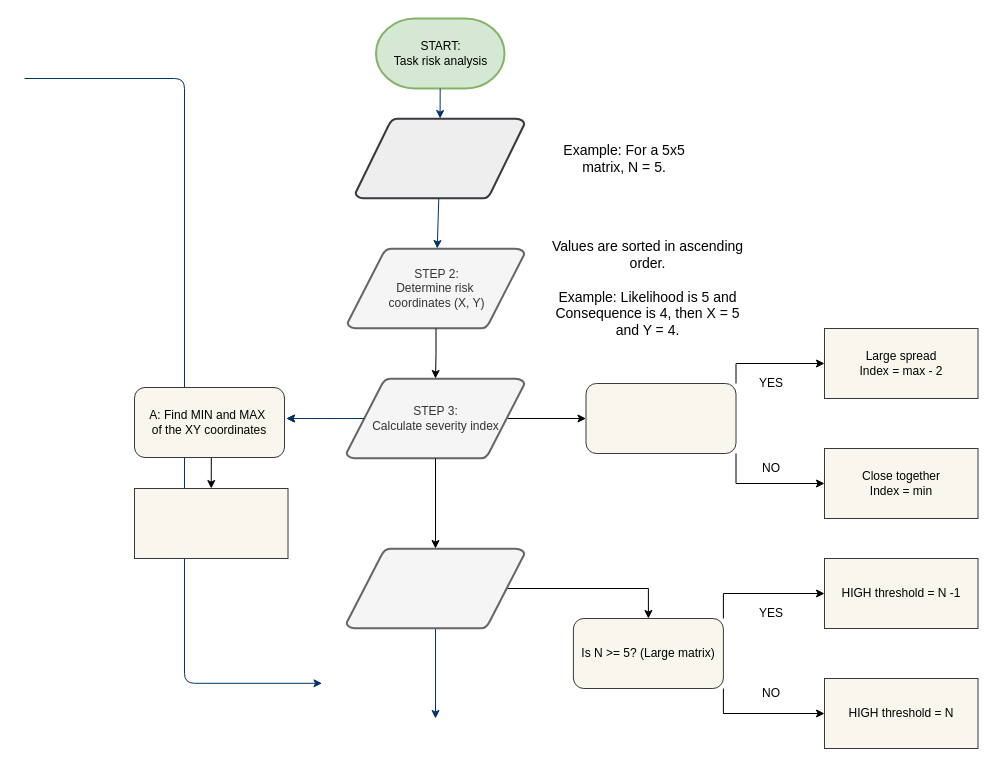
The diagram is 996 pixels wide and 766 high, and some of its shapes have lost their labels. Here are the shapes that lost their labels. From the top down, the centre of each, then its label:
At point (439, 158): "STEP 1: Get matrix dimensions (NxN)".
At point (660, 418): "B: Check the spread. Is (max - min) > 1".
At point (211, 523): "min = Math.min(X, Y) max = Math.max(X, Y)".
At point (435, 588): "STEP 4: Determine the HIGH threshold (based on N)".
